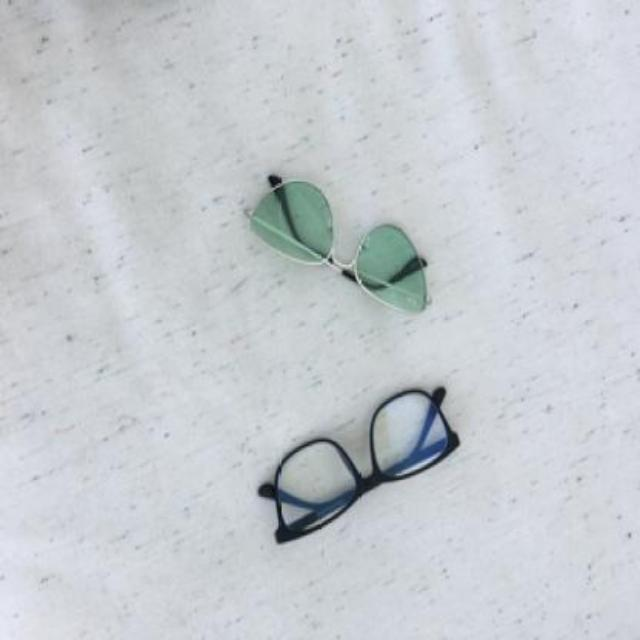glasses: (246, 174, 432, 316)
mask: (256, 384, 459, 544)
